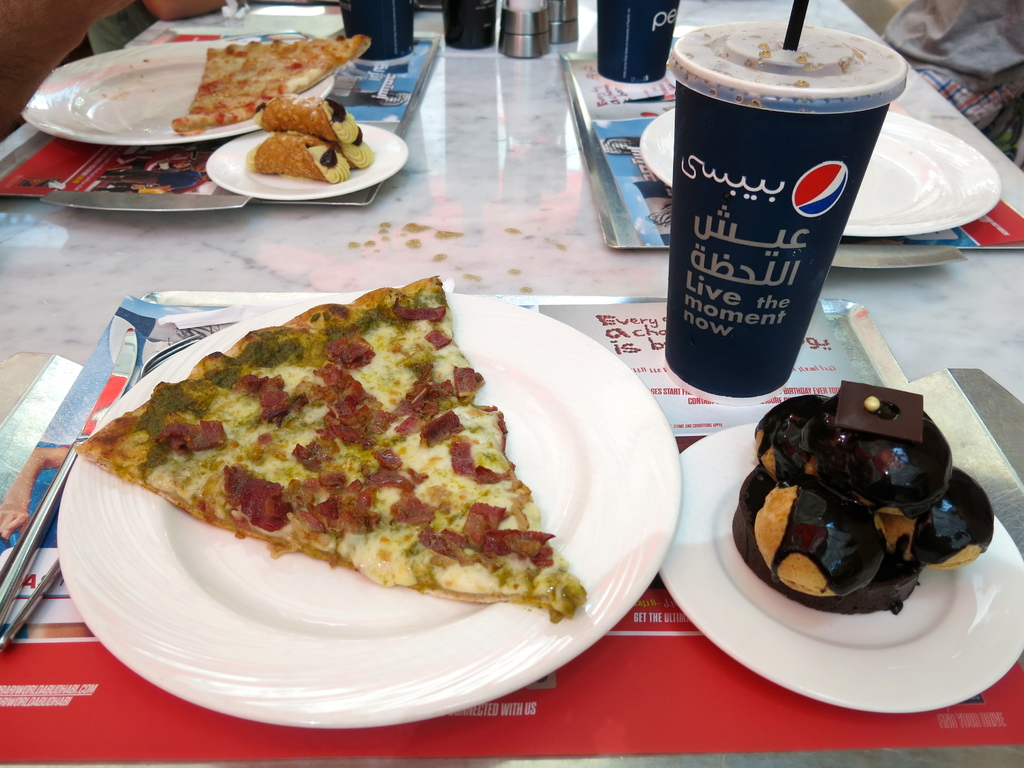Pizza: (71, 267, 584, 620), (165, 37, 369, 136)
